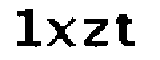1: (13, 5, 44, 49)
t: (116, 12, 138, 47)
x: (44, 15, 78, 51)
z: (81, 15, 111, 50)
